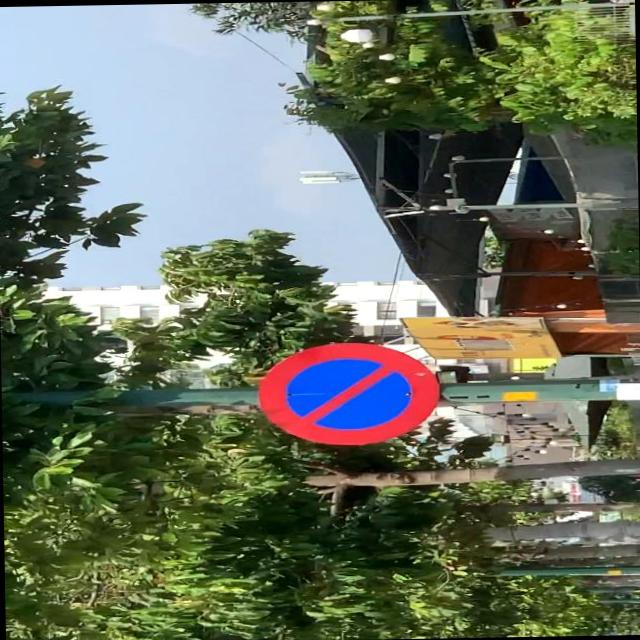P-131a: (253, 342, 440, 448)
